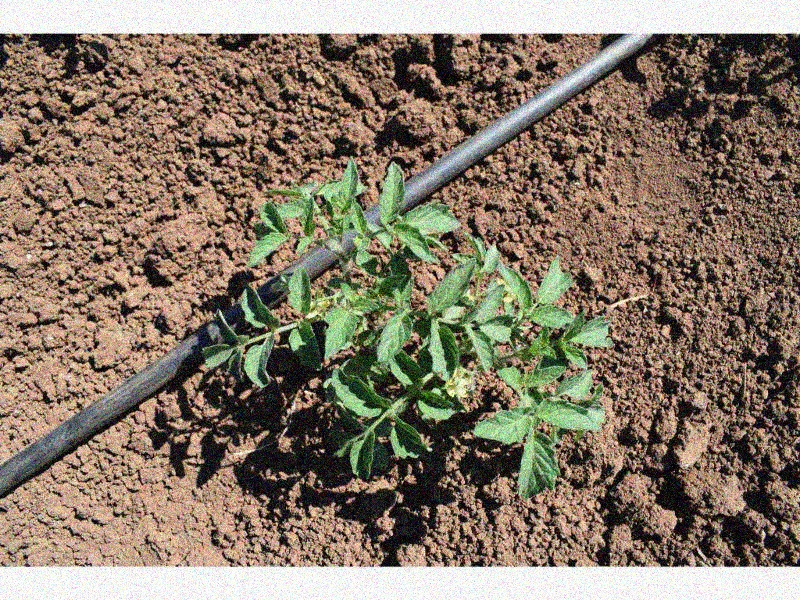tomato: (206, 154, 610, 500)
